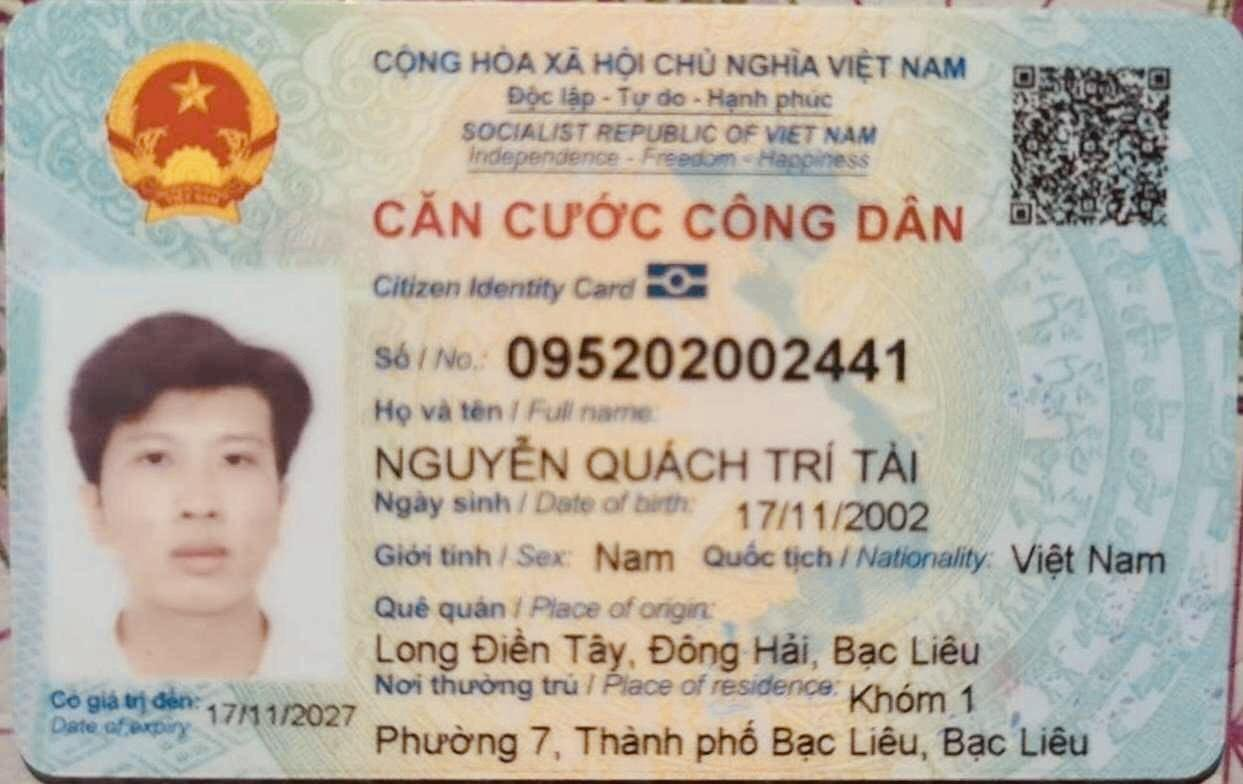ID: (496, 315, 928, 397)
birth: (731, 492, 943, 544)
name: (359, 433, 938, 493)
place: (366, 623, 1003, 674)
residence: (365, 714, 1090, 772), (839, 674, 990, 722)
